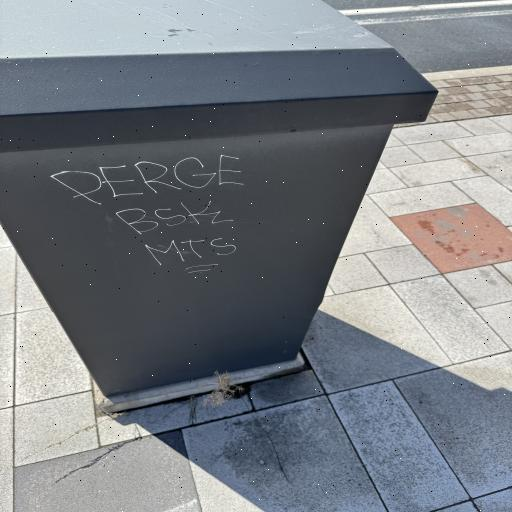Electrical Box: (2, 0, 439, 396)
